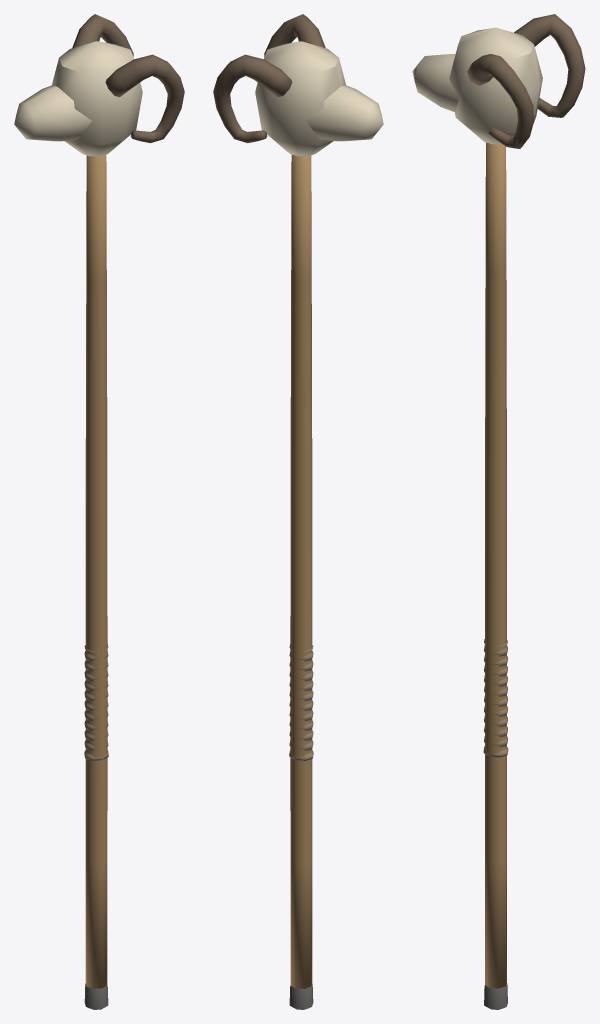
File: orc-skull-ram.glb
3 views of the same model, side by side, from view 1: azimuth 30°, elevation 25°; view 2: azimuth 150°, elevation 25°; view 3: azimuth 330°, elevation 25° (orthographic).
Visible parts, largest first — view 1: orc-skull-ram; view 2: orc-skull-ram; view 3: orc-skull-ram.
Part boxes in pixels (x1,y1,x2,y2): orc-skull-ram: (14, 14, 184, 1009); orc-skull-ram: (213, 14, 383, 1009); orc-skull-ram: (412, 14, 585, 1009).
Size of the model in its own units: 0.714 by 4.59 by 0.5682.
